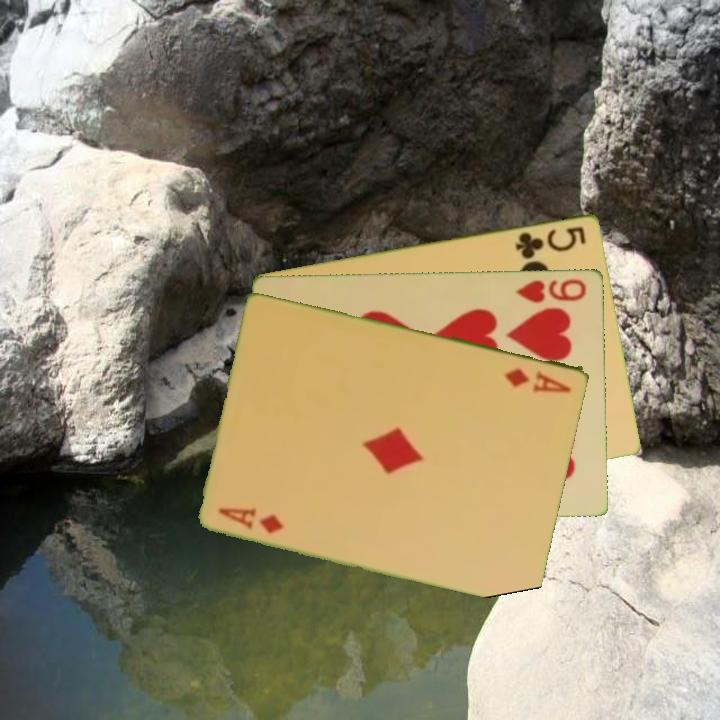5c: (512, 222, 590, 261)
9h: (513, 274, 589, 305)
Ad: (215, 503, 287, 536), (501, 364, 575, 396)
